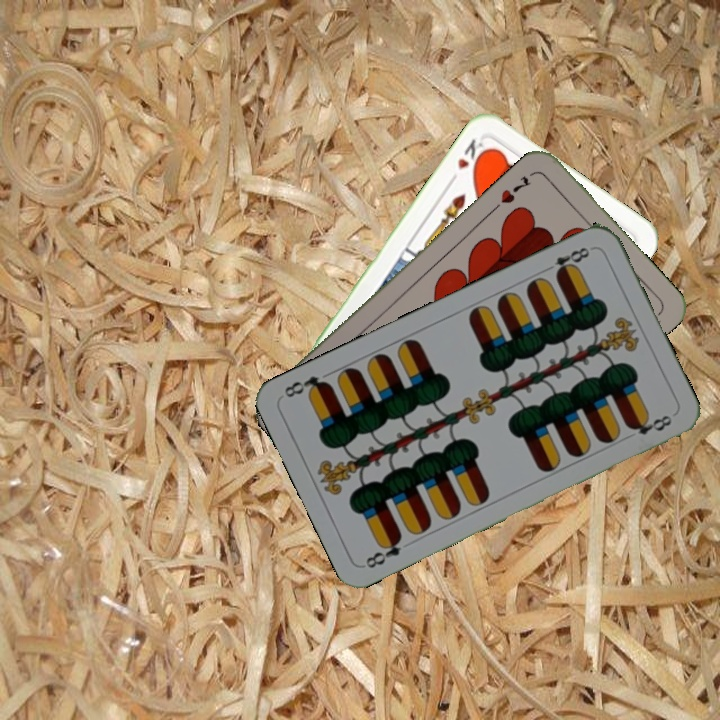E8: (540, 243, 592, 280), (360, 531, 405, 571)
H7: (496, 172, 534, 207)
HK: (453, 134, 490, 174)
